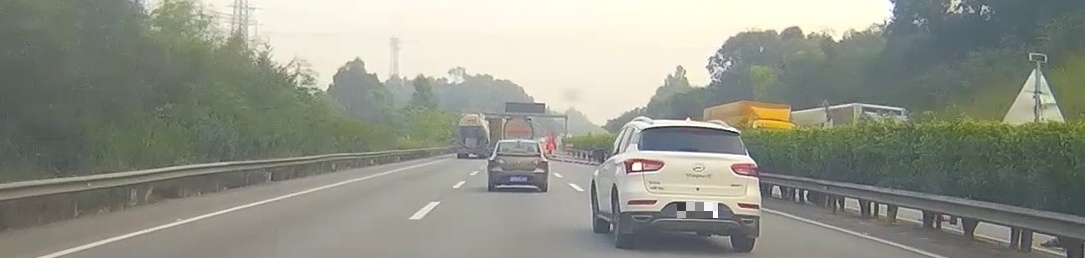L_light: (624, 158, 665, 174), (491, 158, 506, 167)
R_light: (730, 162, 759, 178), (532, 158, 548, 167)
T_light: (684, 125, 705, 131), (514, 141, 525, 144)
day-left: (617, 120, 762, 253)
day-no: (487, 140, 549, 192)
plate_1: (677, 202, 718, 218)
